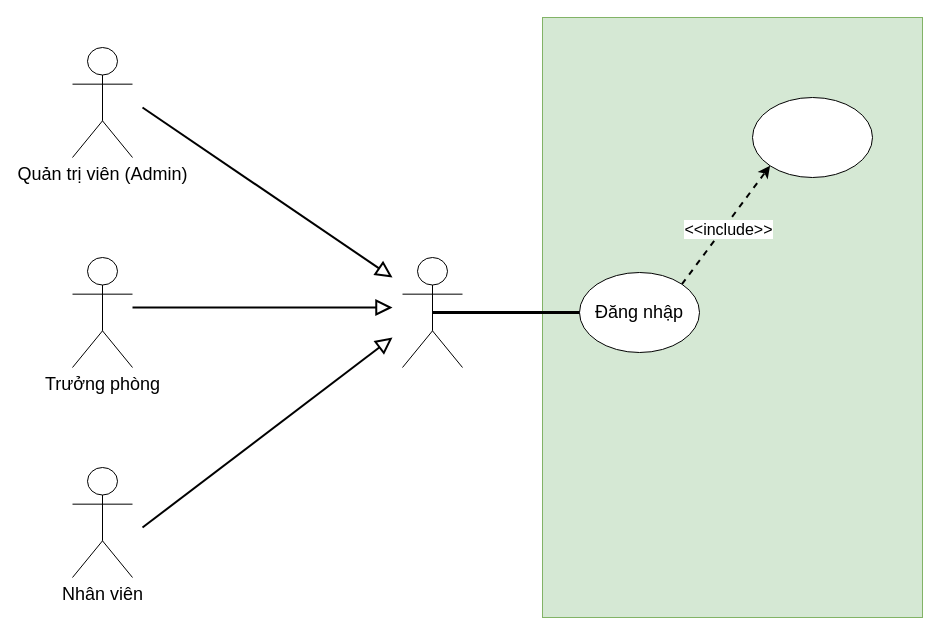
The diagram is 940 pixels wide and 635 high, and some of its shapes have lost their labels. The shapes that lost their labels are listed below. From the top down, each one's centre as x and y in pixels, then its label:
At pixel 812 137: "Đăng xuất".
At pixel 432 312: "Người dùng".
